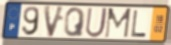9: (21, 5, 41, 37)
L: (130, 9, 147, 39)
M: (103, 7, 133, 40)
Q: (63, 7, 87, 38)
U: (84, 7, 110, 39)
V: (43, 4, 67, 39)
